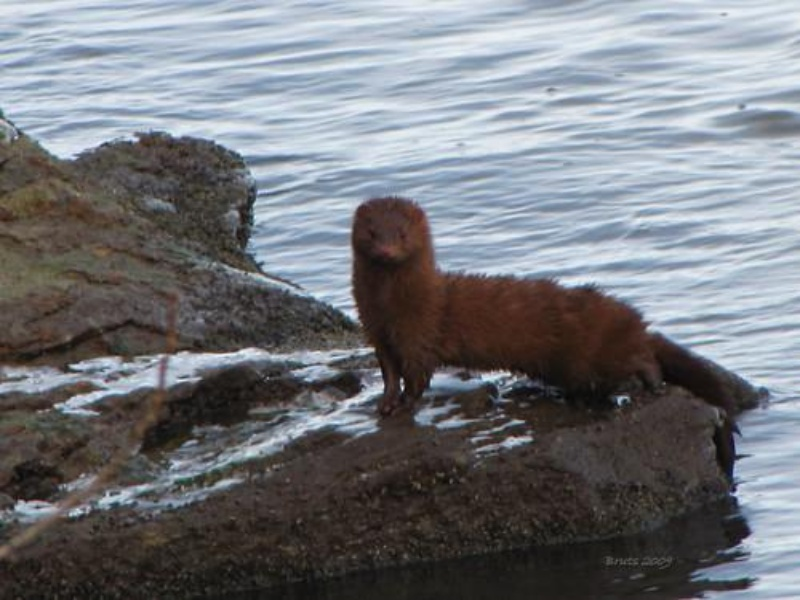minkish: (350, 194, 773, 422)
